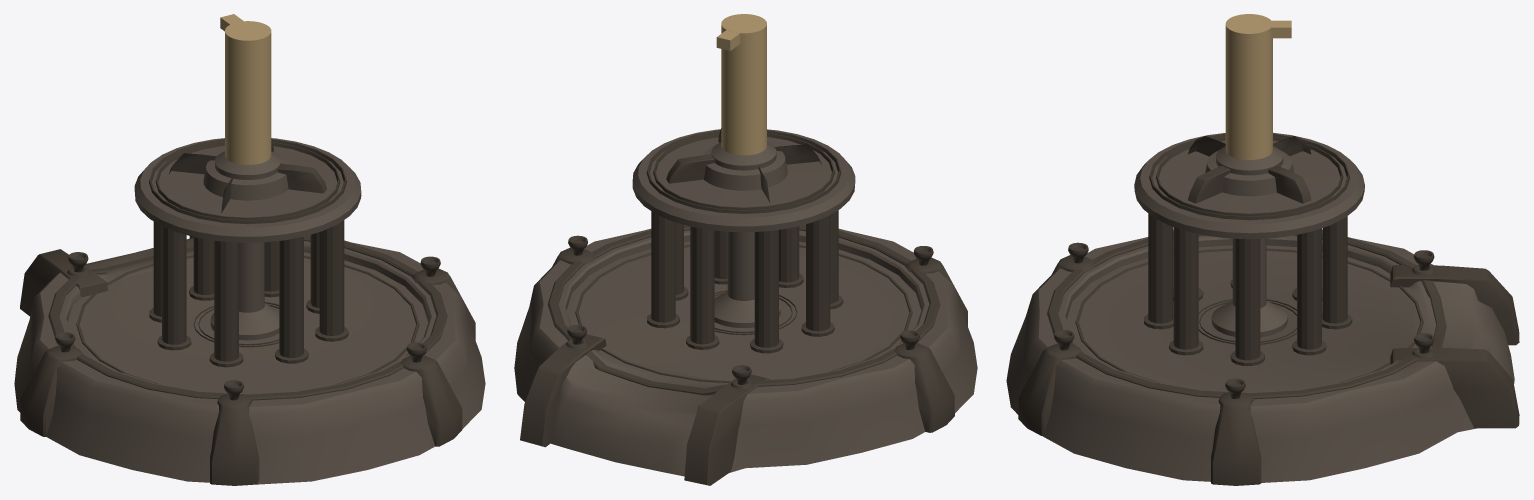
The model's file is altar_pato.fbx.
The picture shows the model from 3 angles, left to right: view 1: azimuth 30°, elevation 25°; view 2: azimuth 150°, elevation 25°; view 3: azimuth 270°, elevation 25°; orthographic projection. The views are drawn at different scales.
Visible parts, largest first — view 1: bases_array; view 2: bases_array; view 3: bases_array.
Part boxes in pixels (x1,y1,x2,y2): bases_array: [14, 14, 485, 485]; bases_array: [514, 14, 977, 485]; bases_array: [1006, 14, 1519, 485].
Size of the model in its own units: 1656 by 1317 by 1704.
